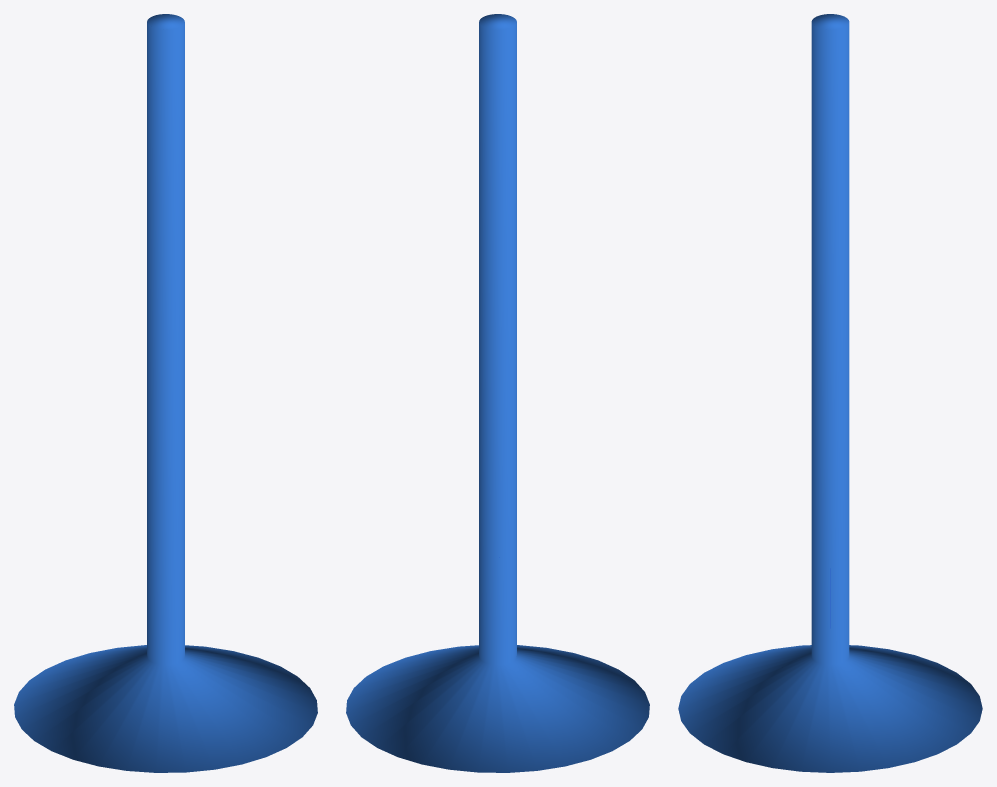
File: Multishop Terminal Stand.fbx
3 views of the same model, side by side, from view 1: azimuth 30°, elevation 25°; view 2: azimuth 150°, elevation 25°; view 3: azimuth 270°, elevation 25° (orthographic).
Parts seen in each view (by area): view 1: Multishop Terminal Stand; view 2: Multishop Terminal Stand; view 3: Multishop Terminal Stand.
Part boxes in pixels (x1,y1,x2,y2): Multishop Terminal Stand: (14,14,317,772); Multishop Terminal Stand: (346,14,649,772); Multishop Terminal Stand: (678,14,982,772).
Size of the model in its own units: 4.2 by 10.45 by 4.2.
Materials: 1 (1 with a texture image).
